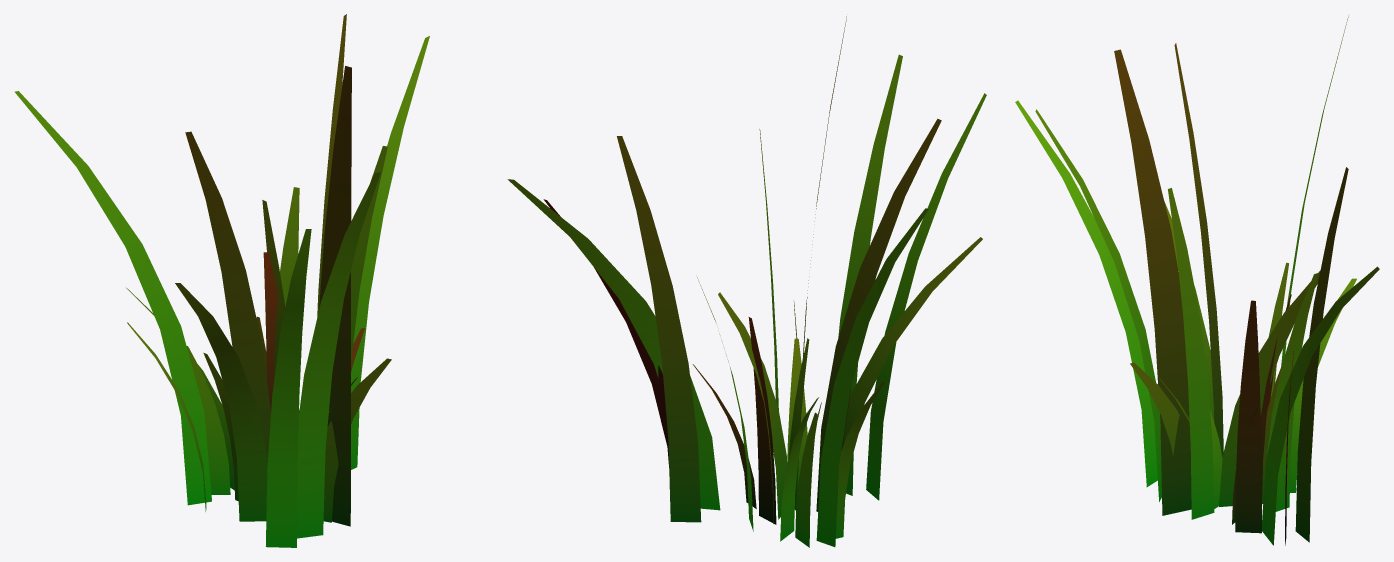
File: seagrass.glb
The picture shows the model from 3 angles, left to right: view 1: azimuth 30°, elevation 25°; view 2: azimuth 150°, elevation 25°; view 3: azimuth 270°, elevation 25°; orthographic projection. The views are drawn at different scales.
Visible parts, largest first — view 1: SeagrassTall, SeagrassShort; view 2: SeagrassTall, SeagrassShort; view 3: SeagrassTall, SeagrassShort.
Boxes of the visible parts, left/top/right/bottom form: SeagrassTall: left=14, top=14, right=429, bottom=547; SeagrassShort: left=126, top=187, right=391, bottom=522; SeagrassTall: left=507, top=16, right=986, bottom=546; SeagrassShort: left=692, top=277, right=885, bottom=547; SeagrassTall: left=1015, top=15, right=1379, bottom=545; SeagrassShort: left=1130, top=262, right=1356, bottom=533.
Bounding box in the file's own units: 1.27 × 1.34 × 0.9777.
